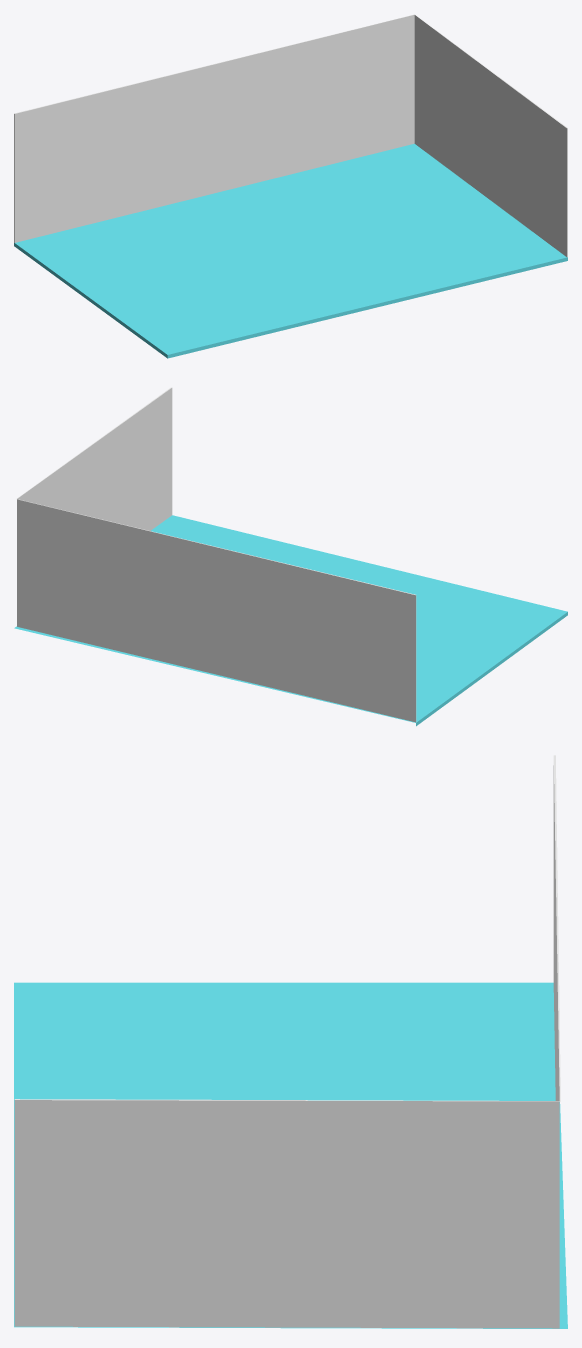
Rendered from room.fbx.
3 renders of one model, top to bottom at view 1: azimuth 30°, elevation 25°; view 2: azimuth 150°, elevation 25°; view 3: azimuth 270°, elevation 25°, orthographic. The views are drawn at different scales.
Visible parts, largest first — view 1: Plane001; view 2: Plane001; view 3: Plane001.
Boxes of the visible parts, x1,y1,x2,y2 form: Plane001: [14, 14, 567, 358]; Plane001: [14, 387, 567, 726]; Plane001: [14, 755, 567, 1328].
Size of the model in its own units: 653 by 206 by 441.
